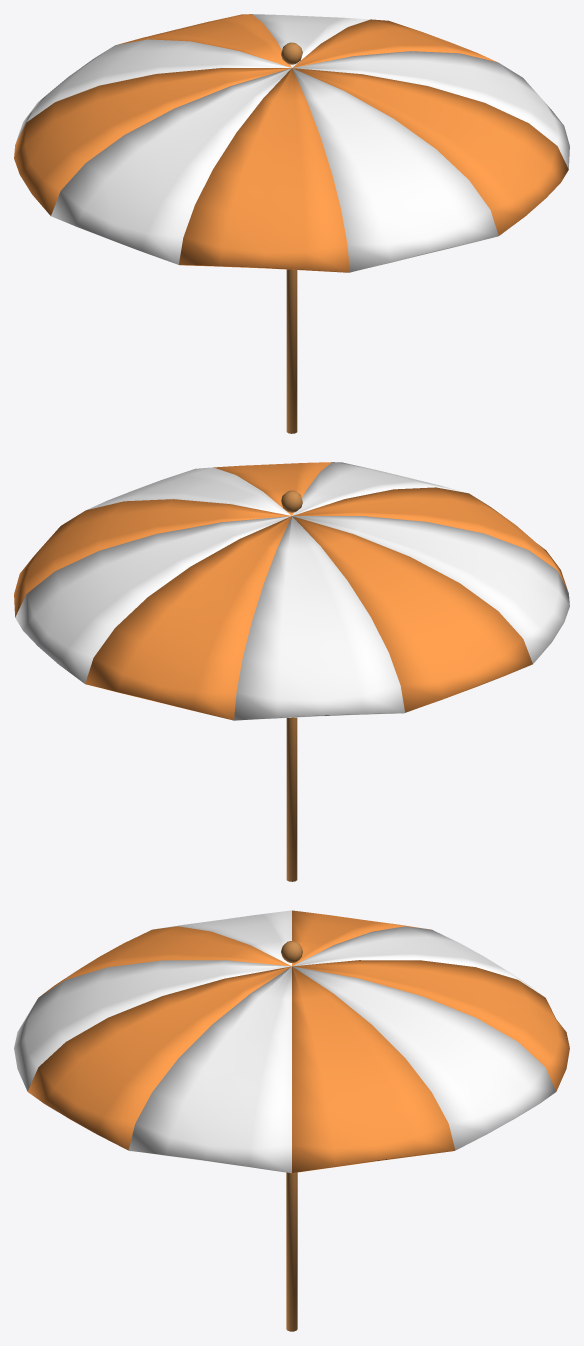
Rendered from umbrella_orange.glb.
3 views of the same model, one above another, from view 1: azimuth 30°, elevation 25°; view 2: azimuth 150°, elevation 25°; view 3: azimuth 270°, elevation 25° (orthographic).
Parts seen in each view (by area): view 1: umbrella_orange; view 2: umbrella_orange; view 3: umbrella_orange.
Boxes of the visible parts, x1,y1,x2,y2 form: umbrella_orange: (14,14,569,433); umbrella_orange: (14,462,569,881); umbrella_orange: (14,910,569,1331).
Bounding box in the file's own units: 3.5 × 2.69 × 3.5.
